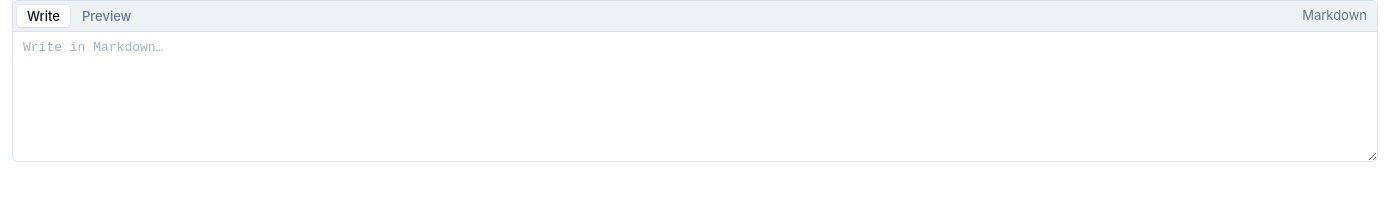
Test: Markdown editor mentions › suggest people after @ and insert the chosen one
This screenshot has width=1390, height=217.
In the text box: (695,96) left=13, top=32, right=1377, bottom=161, type "Hi @bo"
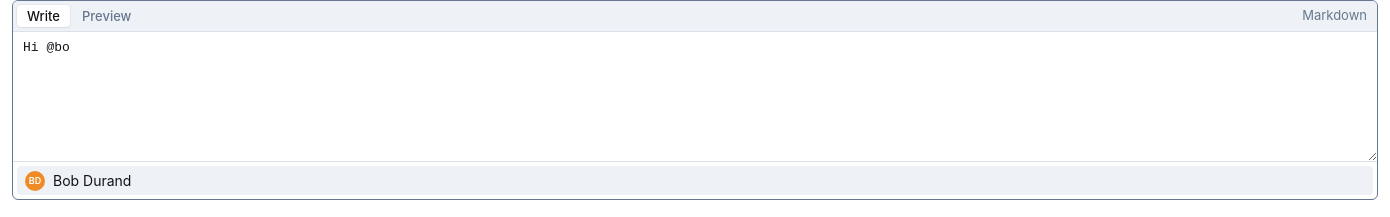
Now the option "BD Bob Durand" is shown, box left=17, top=166, right=1373, bottom=195
Press Enter
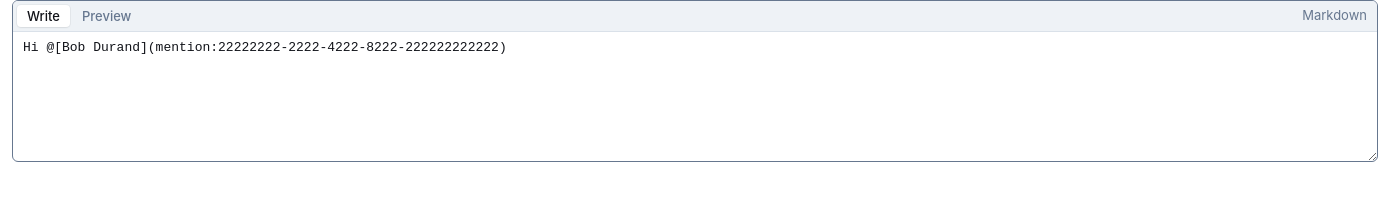
Now the option is gone
